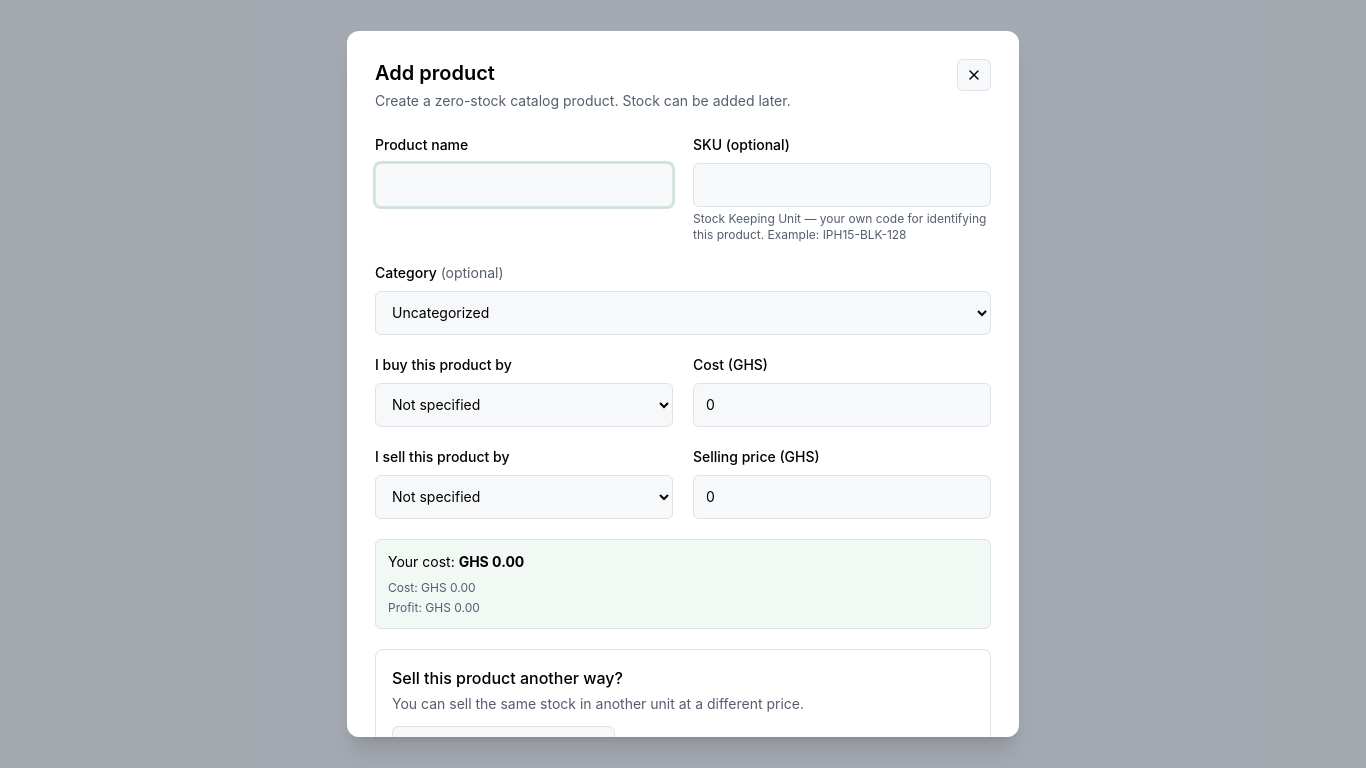
Scenario: ProductFormDialog › shows conversion guidance and a purchase-unit cost label for different units
The image size is (1366, 768).
Select "Kg" in the dropdown labelled "I sell this product by" at [524, 497], box top-left (375, 475), bottom-right (673, 519)
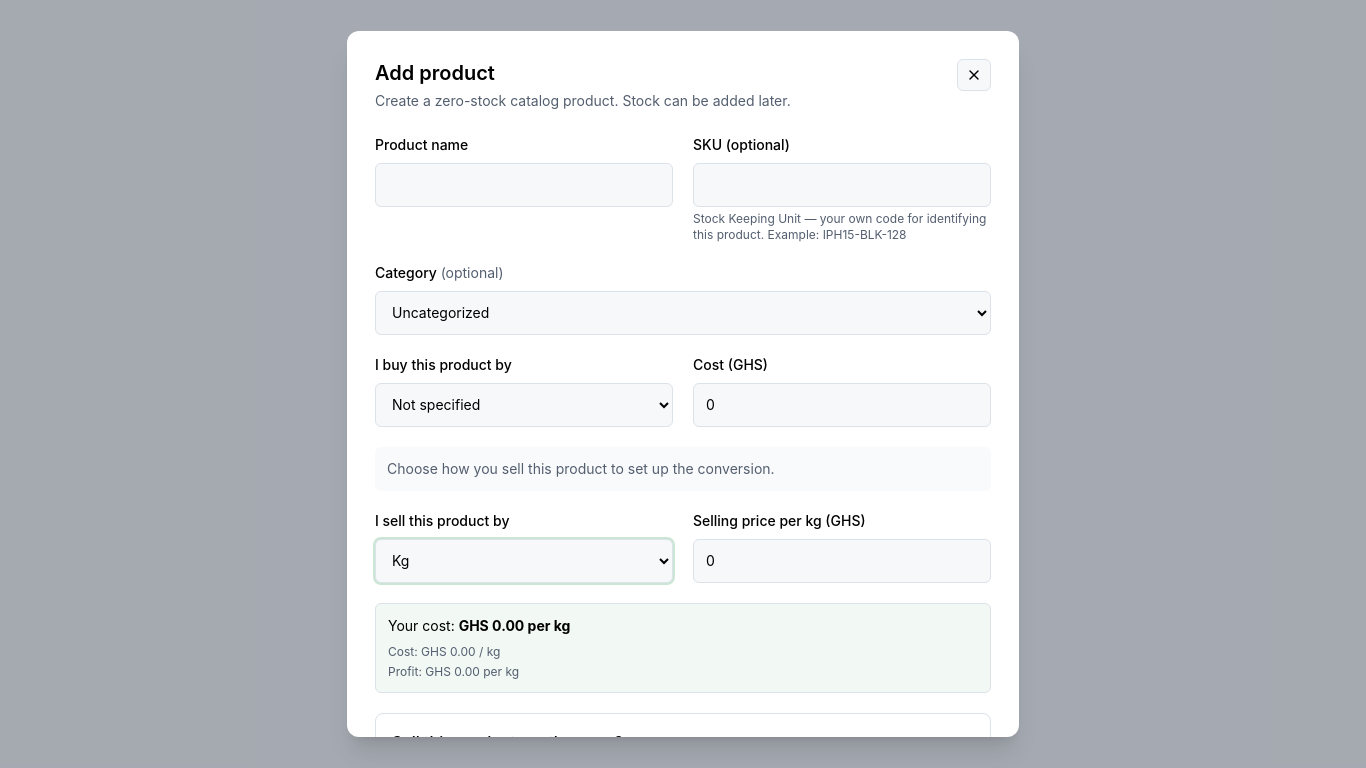
Select "Carton" in the dropdown labelled "I buy this product by" at [524, 405], box top-left (375, 383), bottom-right (673, 427)
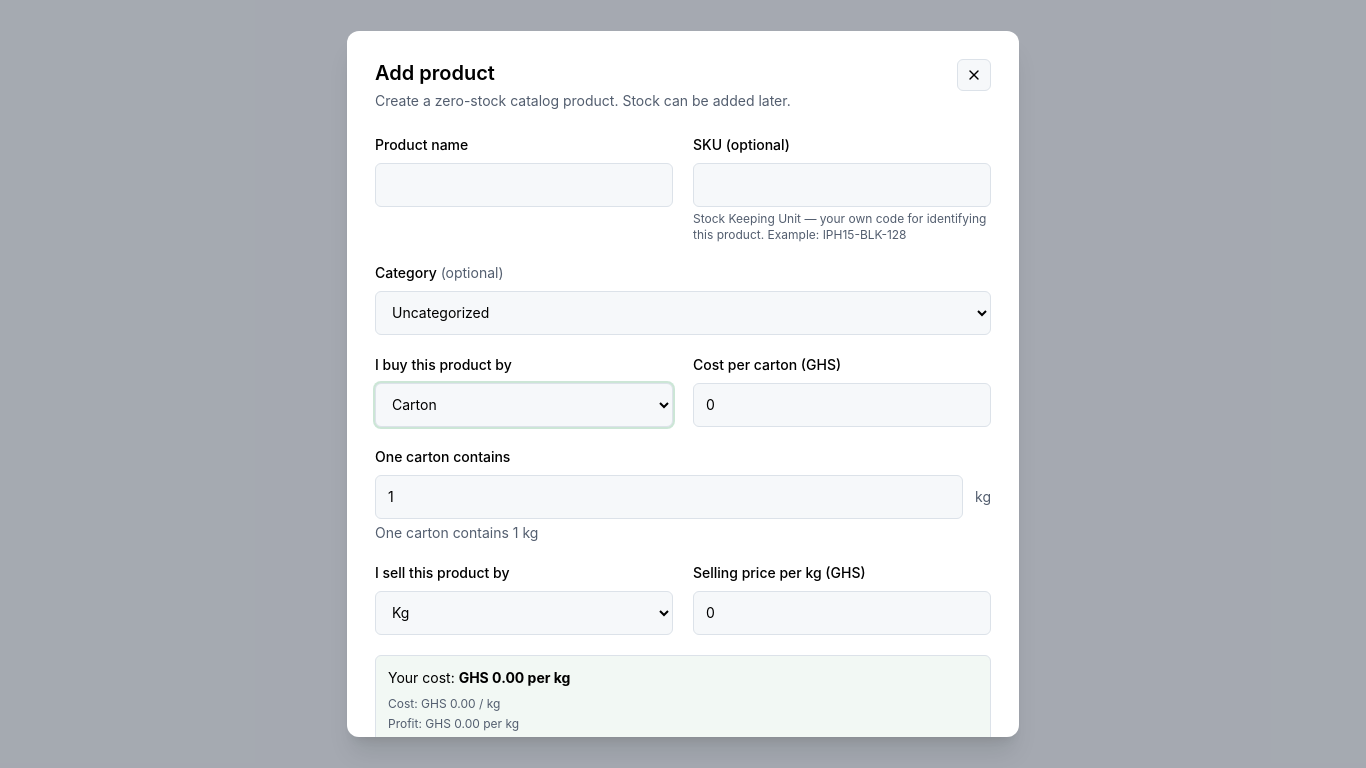
Expected: the field labelled "Cost per carton (GHS)" is shown, top-left (693, 383), bottom-right (991, 427)
Expected: the field labelled "One carton contains" is shown, top-left (375, 475), bottom-right (963, 519)
Expected: the text "One carton contains" is shown, top-left (375, 448), bottom-right (510, 465)
